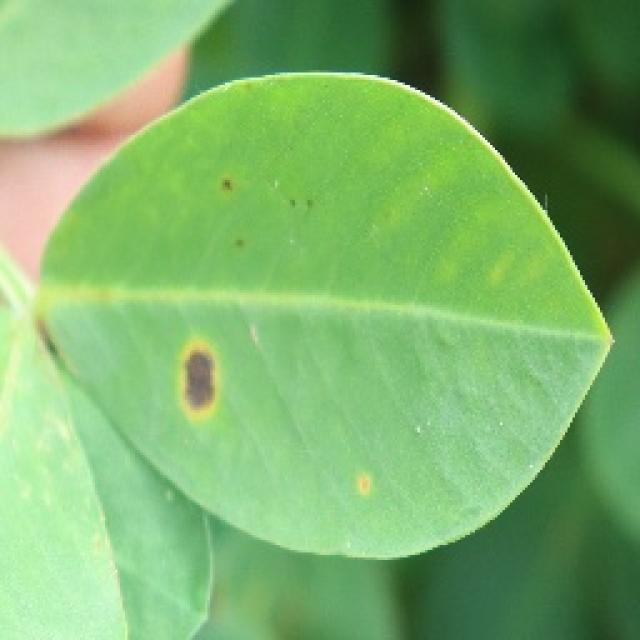Early_leaf_spot: (196, 157, 327, 269), (168, 334, 242, 437), (342, 458, 392, 512)
